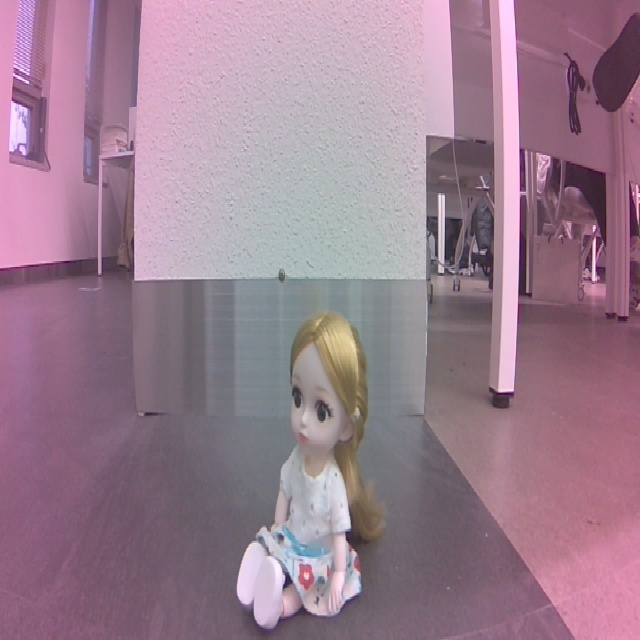장애물: (216, 311, 385, 626)
